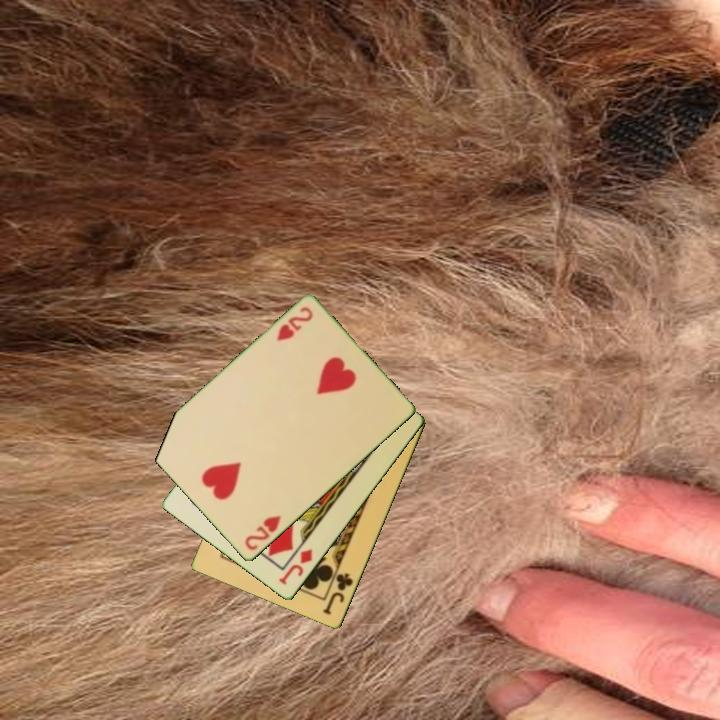2h: (241, 512, 284, 554), (273, 303, 316, 345)
Jc: (320, 570, 356, 618)
Jd: (275, 546, 316, 588)
